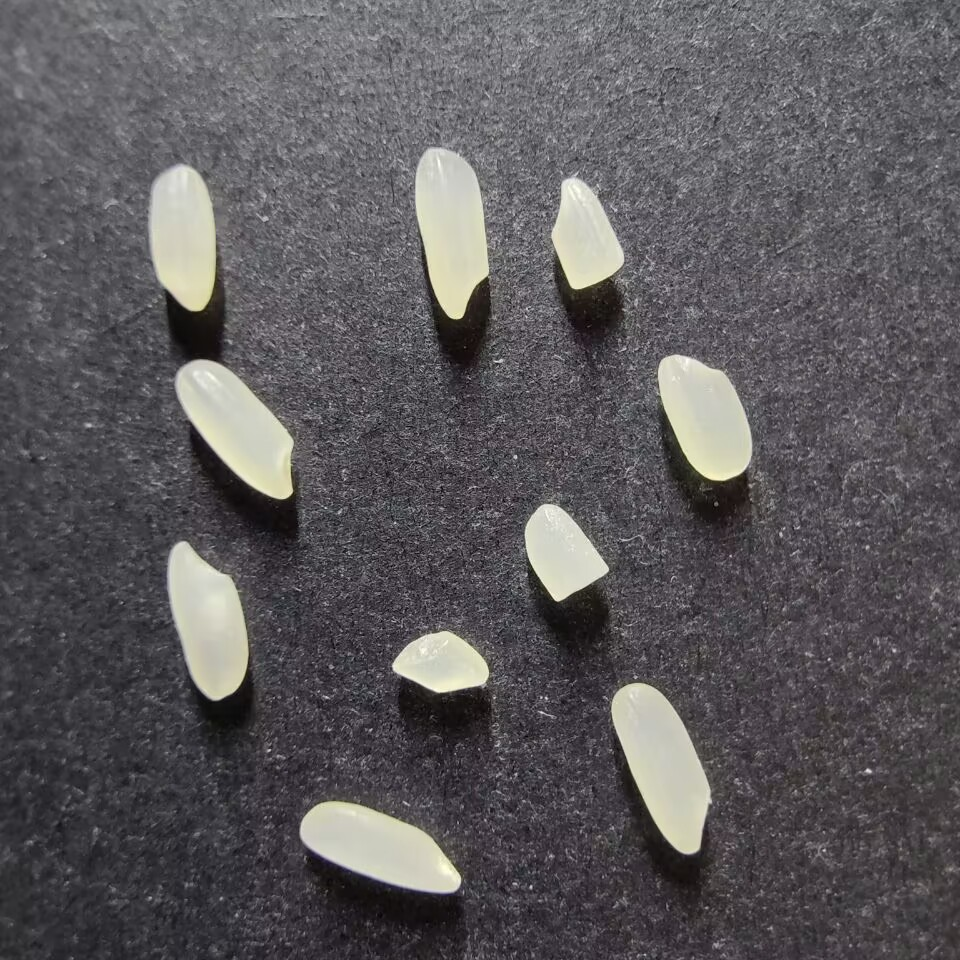broken: (548, 176, 626, 291), (522, 502, 610, 602), (389, 629, 489, 693)
rice: (609, 681, 713, 855), (173, 358, 297, 501), (297, 799, 463, 895), (165, 539, 250, 701), (412, 147, 488, 319), (656, 353, 753, 483), (147, 163, 218, 312)
